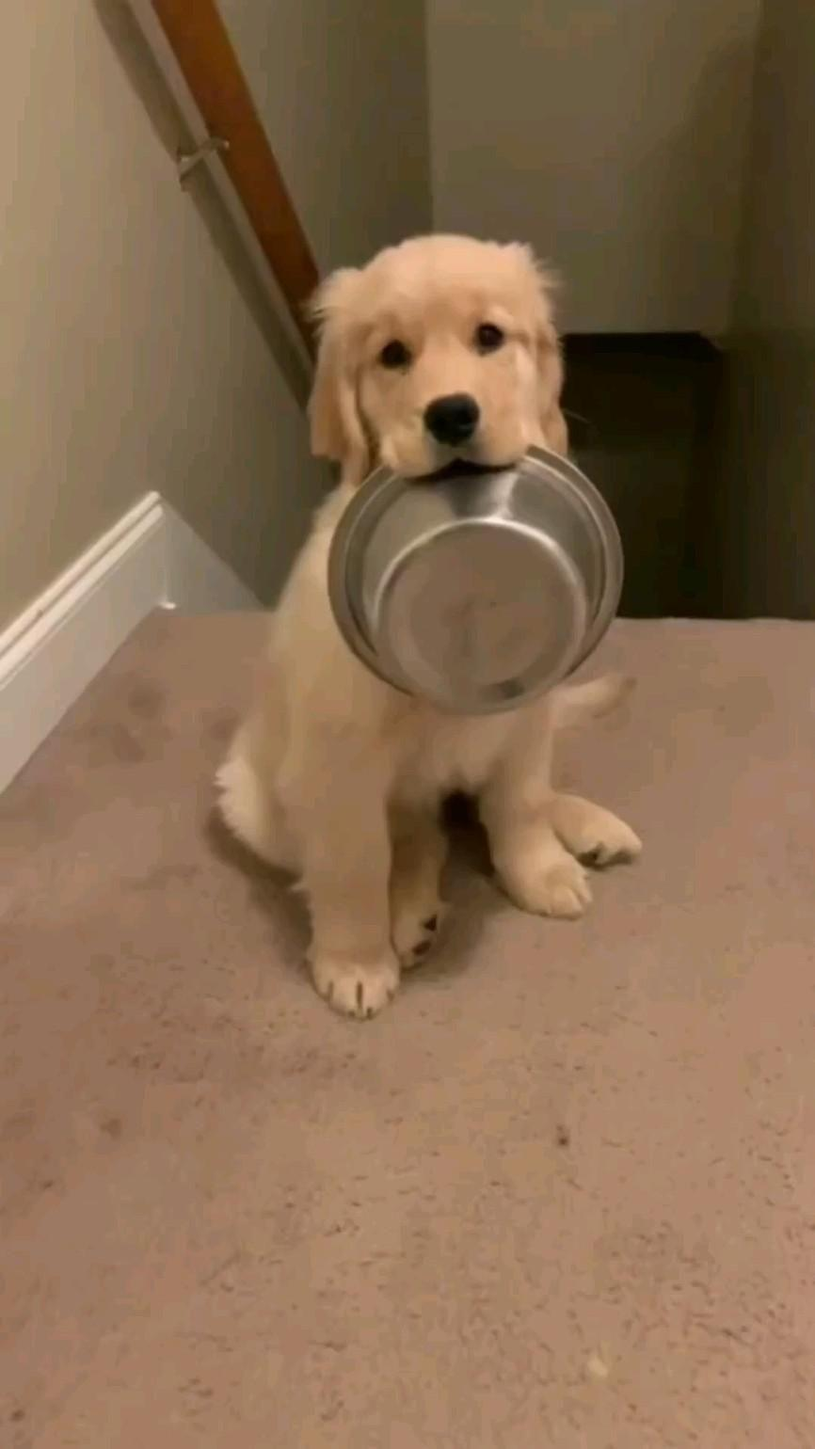puppy-dog: (208, 227, 647, 1022)
